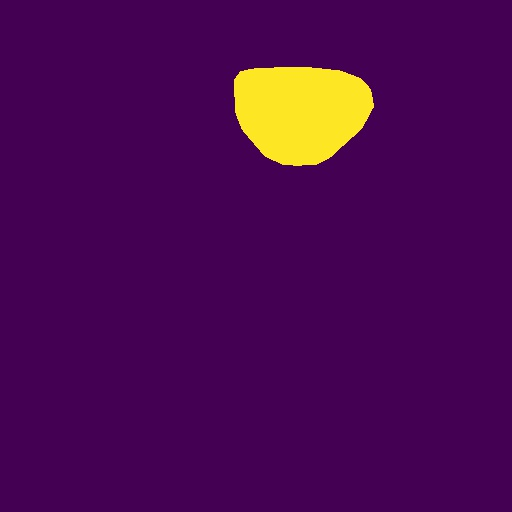Menigiomia_tumour: (234, 67, 374, 166)
